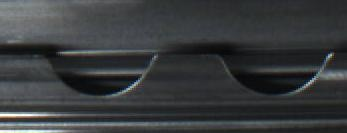twou: (56, 44, 316, 101)
